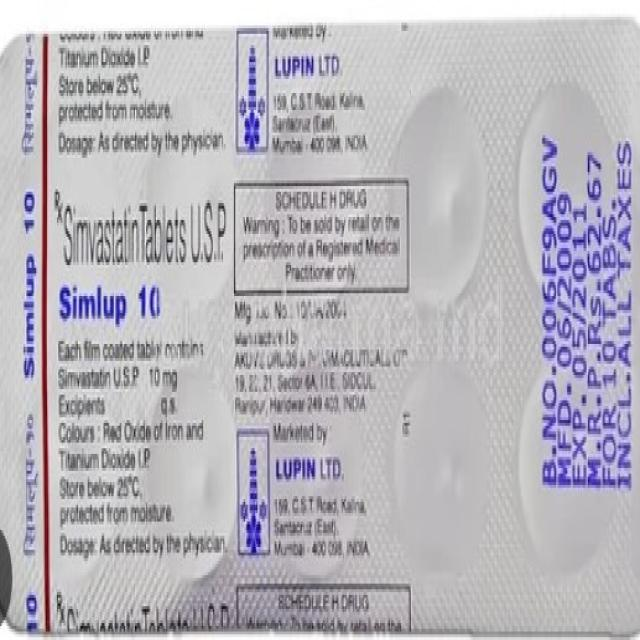Medicine-name: (62, 188, 231, 278)
